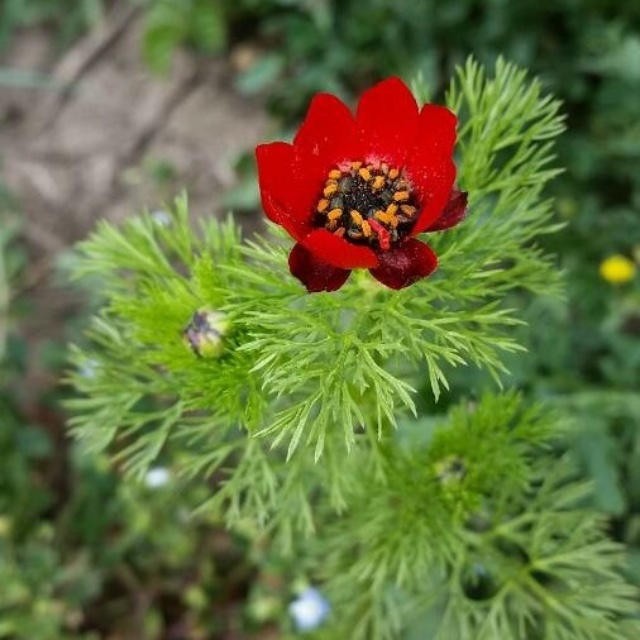obstacle: (56, 52, 597, 532)
